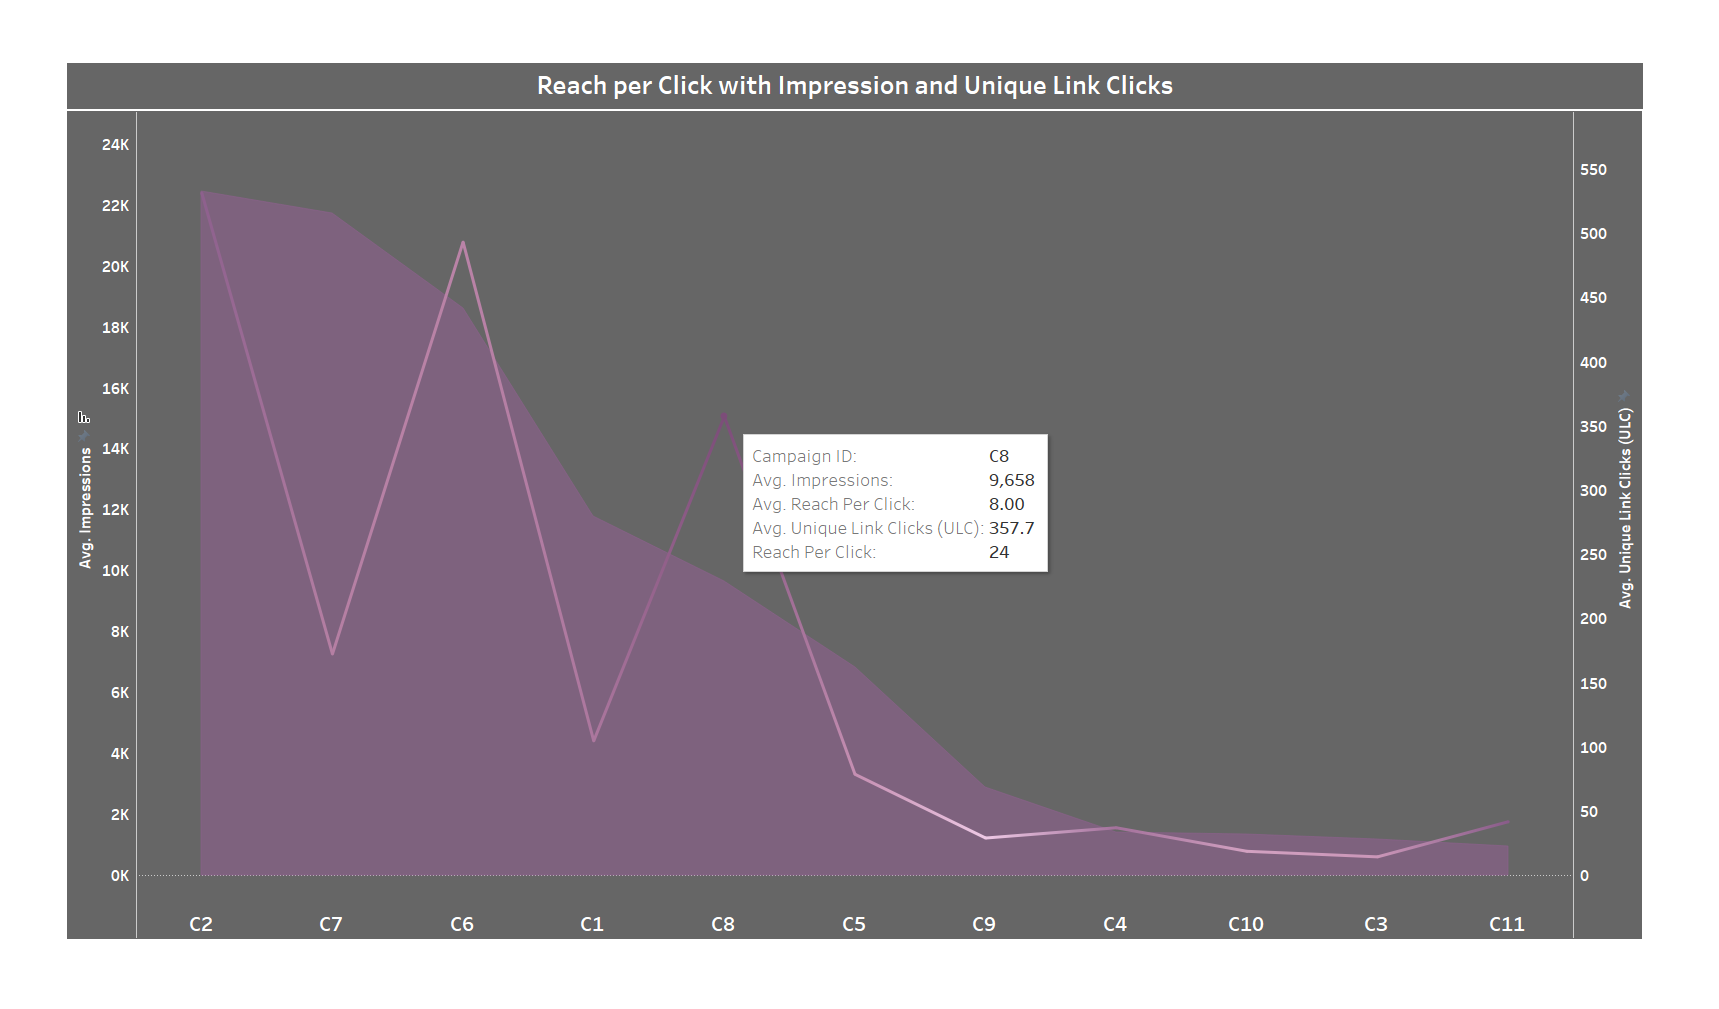

This screenshot's page, from the dashboard's own definition file:
{"tool":"tableau","page":{"name":"Dashboard 4","canvas":[1600,900],"ordinal":3},"visuals":[{"type":"worksheet","title":"Sheet 4","mark":"Area","rows":["Impressions","Unique Link Clicks (ULC)"],"cols":["Campaign ID"],"box":[8,8,1584,884]}]}

Visuals, with their boxes on the page's 1600x900 design canvas (x1, y1, x2, y2). These are canvas units, not pixel positions in the 1719x1009 screenshot, which may show the page scaled, cropped or inside an application window:
"Sheet 4" worksheet (Area marks): [x1=8, y1=8, x2=1592, y2=892]
